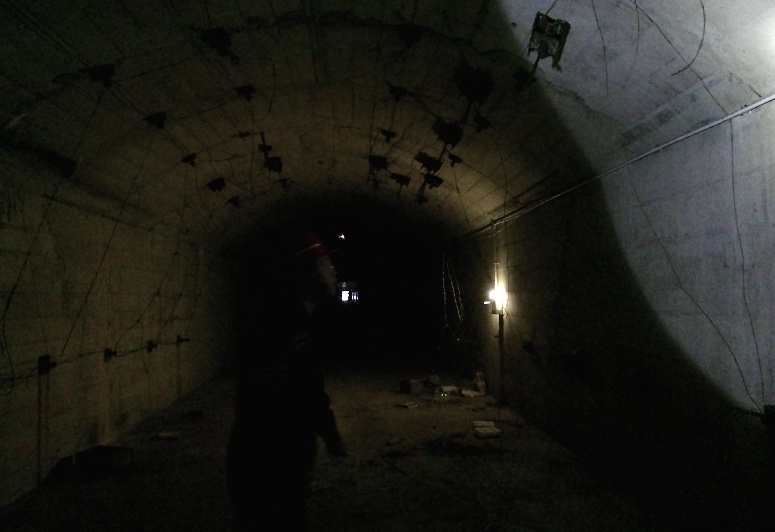person: (218, 230, 342, 532)
